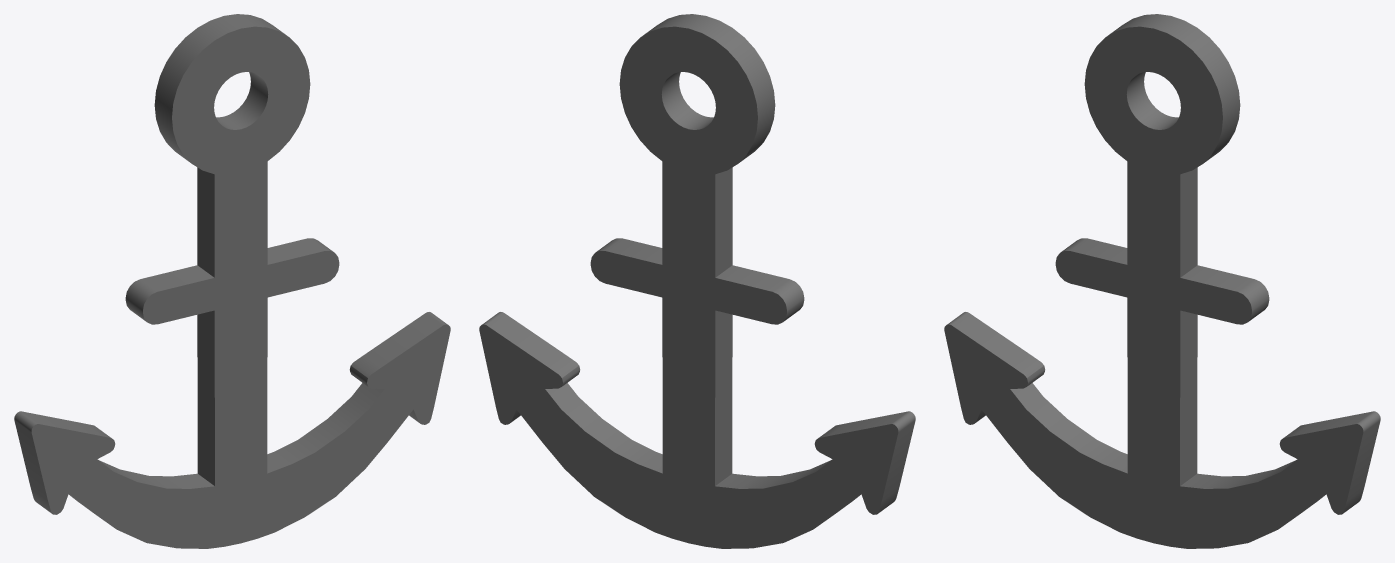
The model's file is anchor.gltf.
The picture shows the model from 3 angles, left to right: view 1: azimuth 30°, elevation 25°; view 2: azimuth 150°, elevation 25°; view 3: azimuth 330°, elevation 25°; orthographic projection.
Parts seen in each view (by area): view 1: Circle.2399; view 2: Circle.2399; view 3: Circle.2399.
Boxes of the visible parts, x1,y1,x2,y2 form: Circle.2399: (14, 14, 450, 548); Circle.2399: (479, 14, 915, 548); Circle.2399: (944, 14, 1380, 548).
Size of the model in its own units: 1.95 by 2.29 by 0.1394.
1 material, 1 textured.
